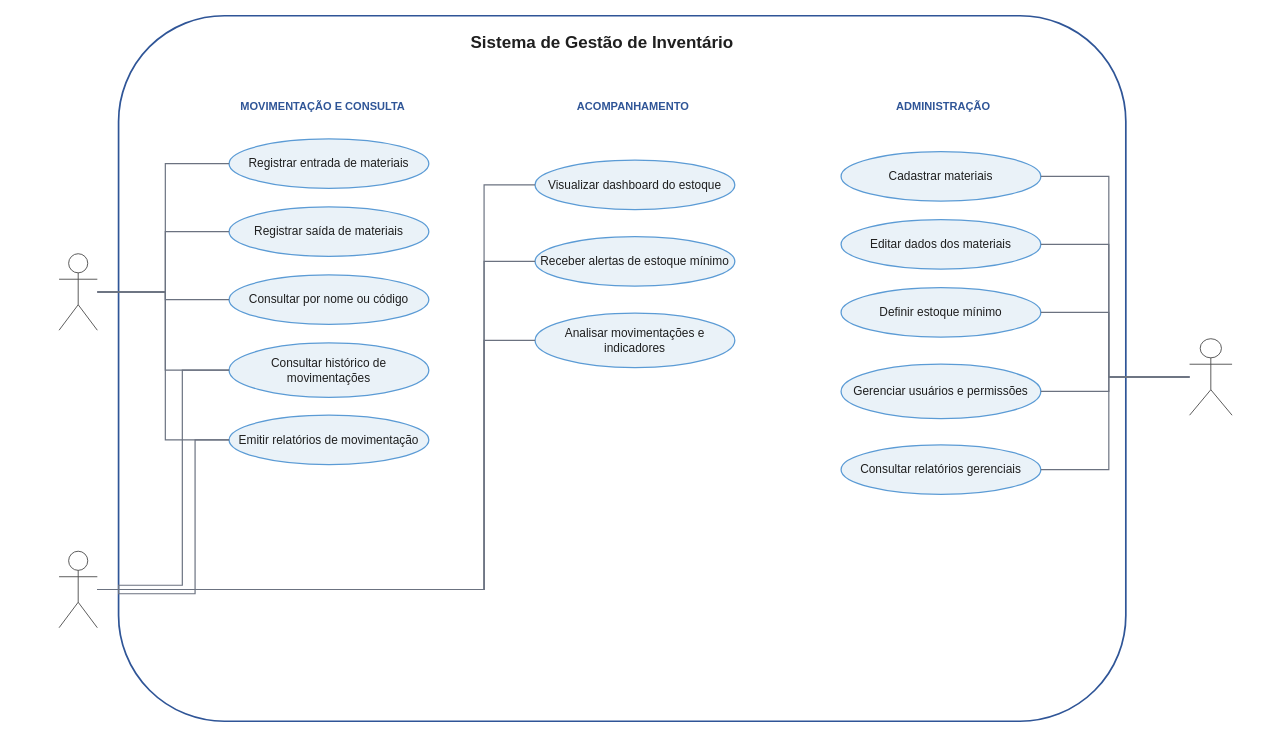
This 1262x736 diagram has some shape labels left out. Each missing label, with the centre of its shape:
Administrador: the point at 1210,376
Funcionário / Estoquista: the point at 77,291
Supervisor / Gerente: the point at 77,589
